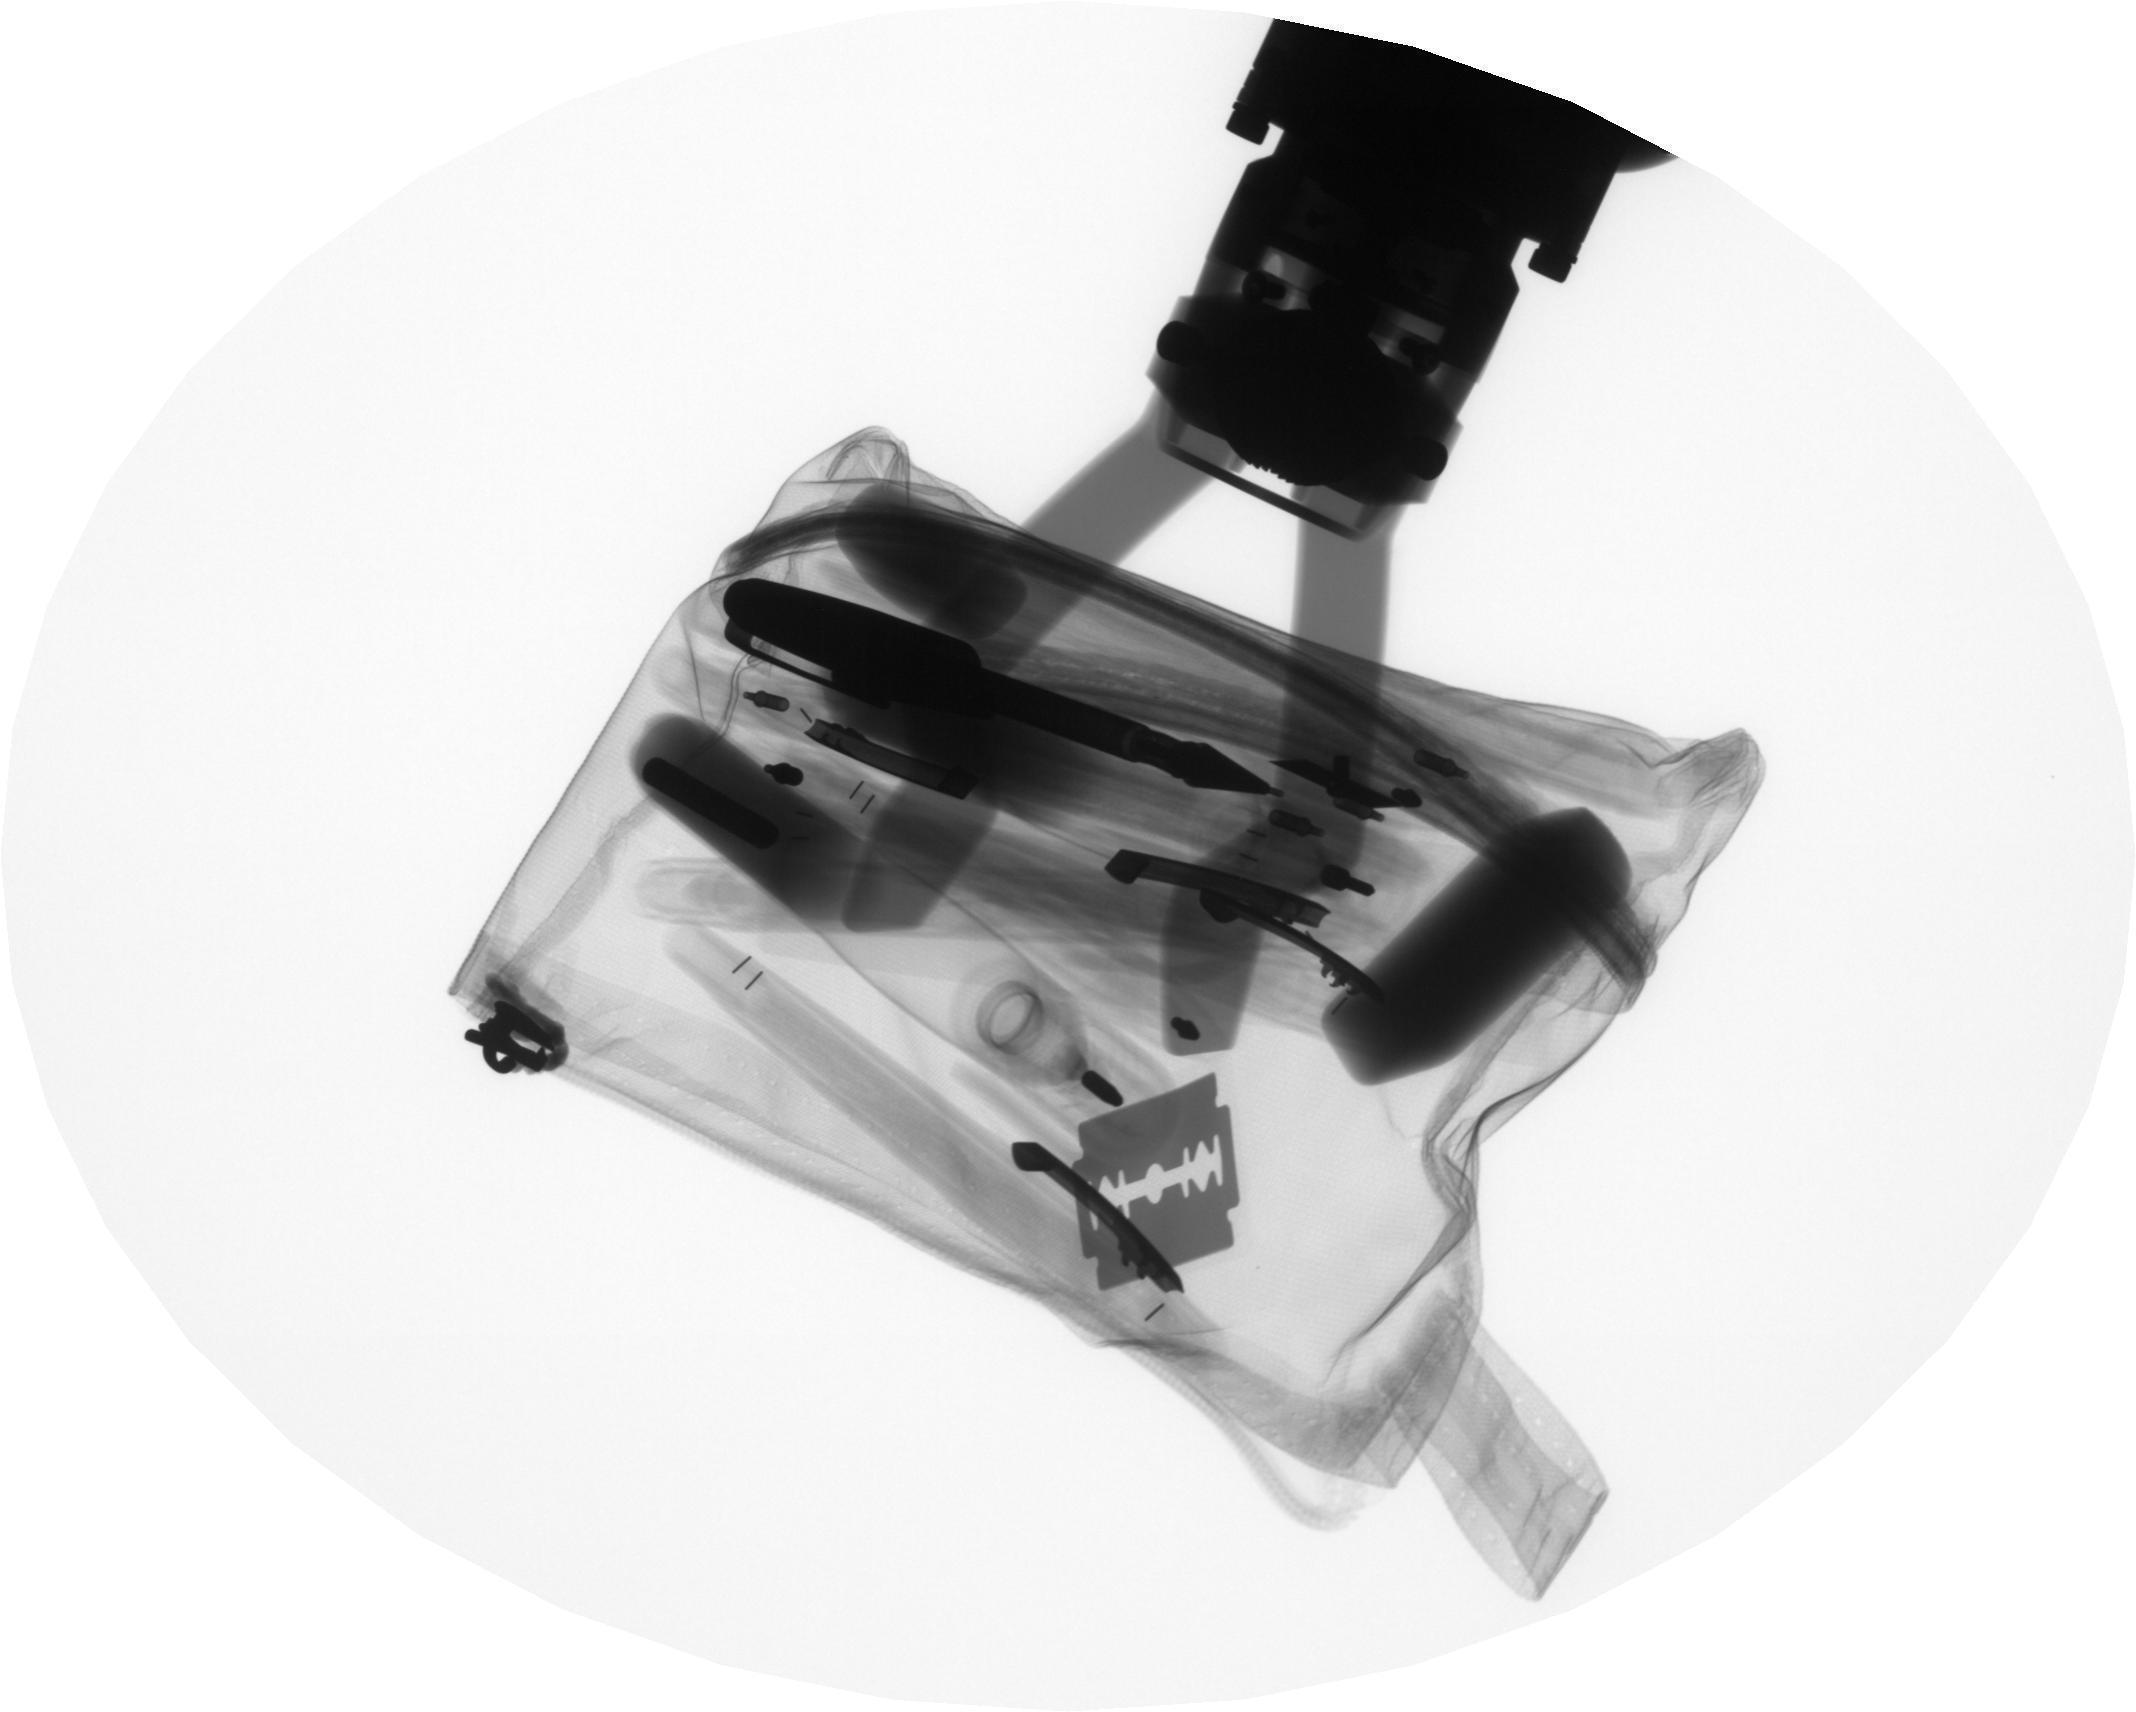RazorBlade: (1051, 1069, 1280, 1301)
